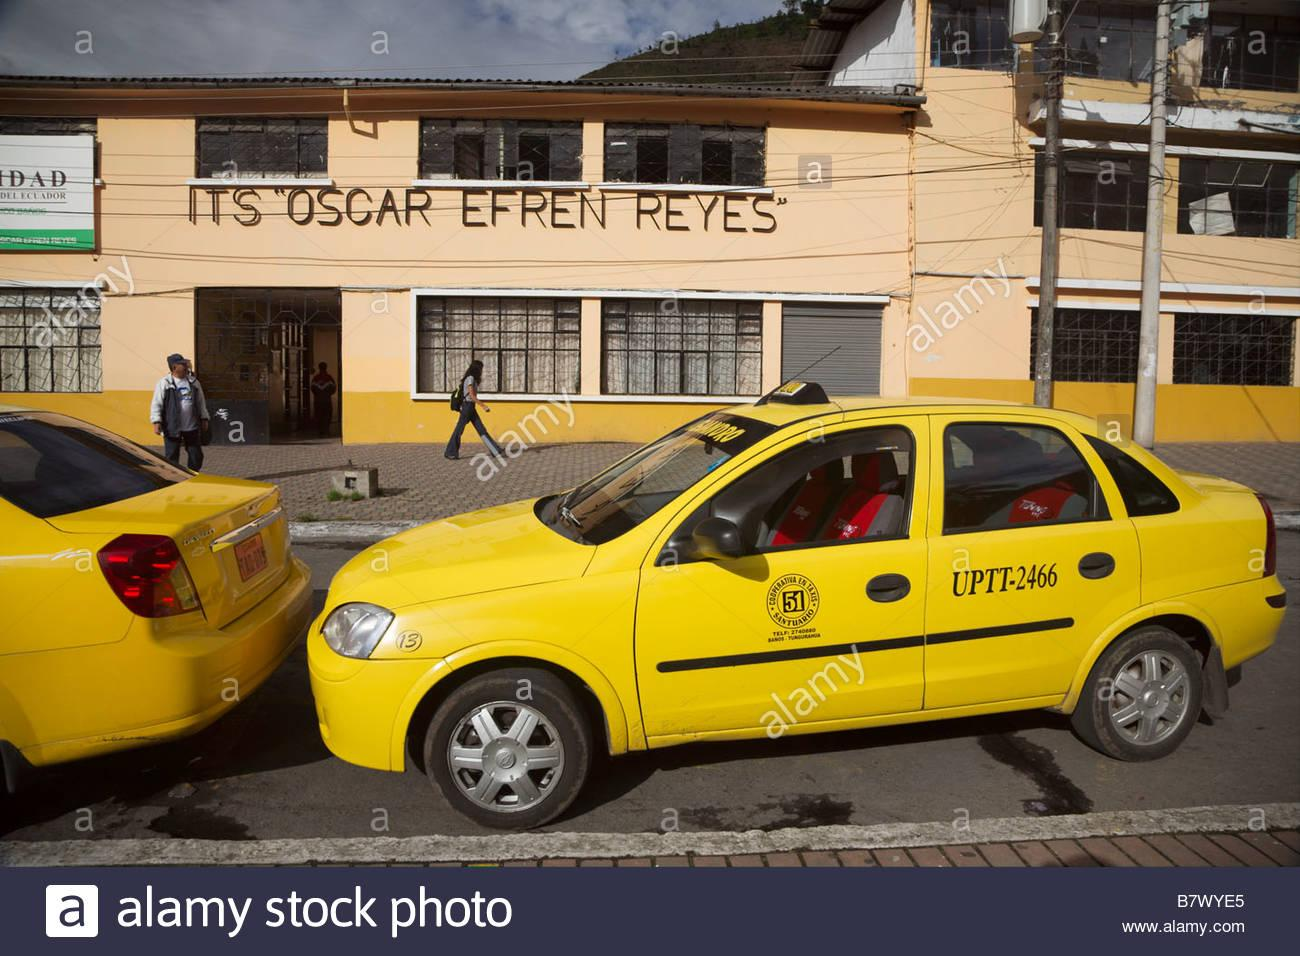taxi: (344, 383, 1300, 834)
